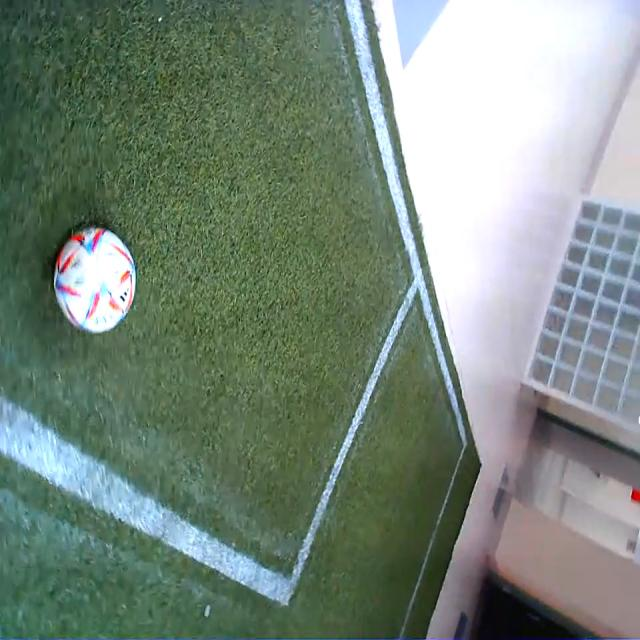ball: (55, 226, 138, 336)
